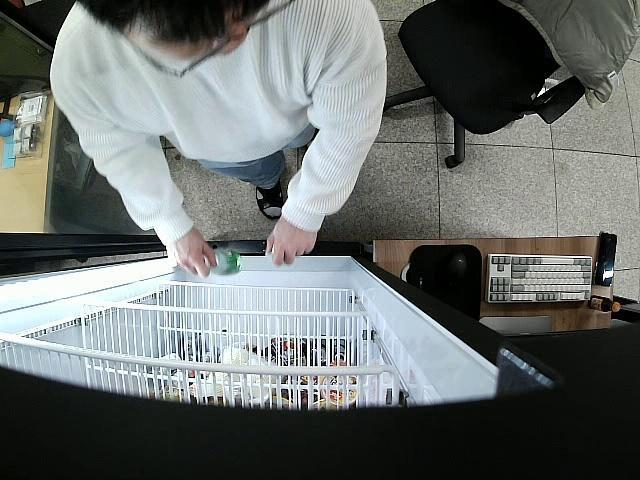18_trevi: (198, 250, 244, 276)
